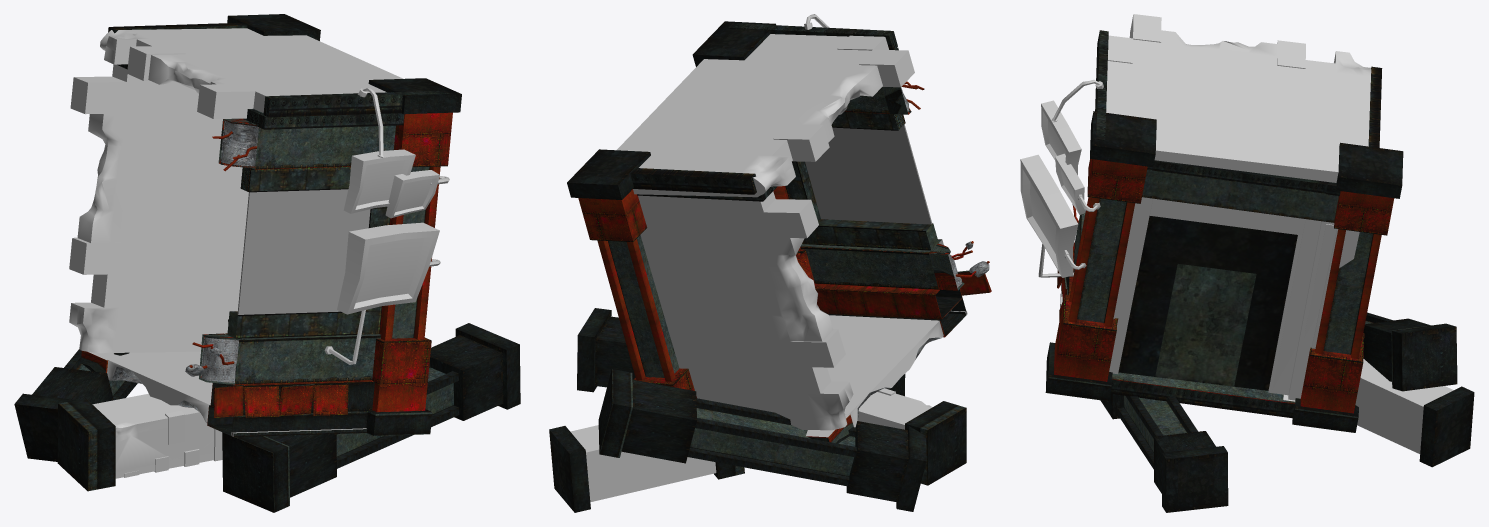
Rendered from Regie@droiteSol.FBX.
3 renders of one model, left to right at view 1: azimuth 30°, elevation 25°; view 2: azimuth 150°, elevation 25°; view 3: azimuth 270°, elevation 25°, orthographic. The views are drawn at different scales.
Parts seen in each view (by area): view 1: TierDroit; view 2: TierDroit; view 3: TierDroit.
Part boxes in pixels (x1=…): TierDroit: x1=14, y1=14, x2=520, y2=512; TierDroit: x1=549, y1=14, x2=991, y2=512; TierDroit: x1=1020, y1=14, x2=1474, y2=512.
Bounding box in the file's own units: 873 × 789 × 891.
